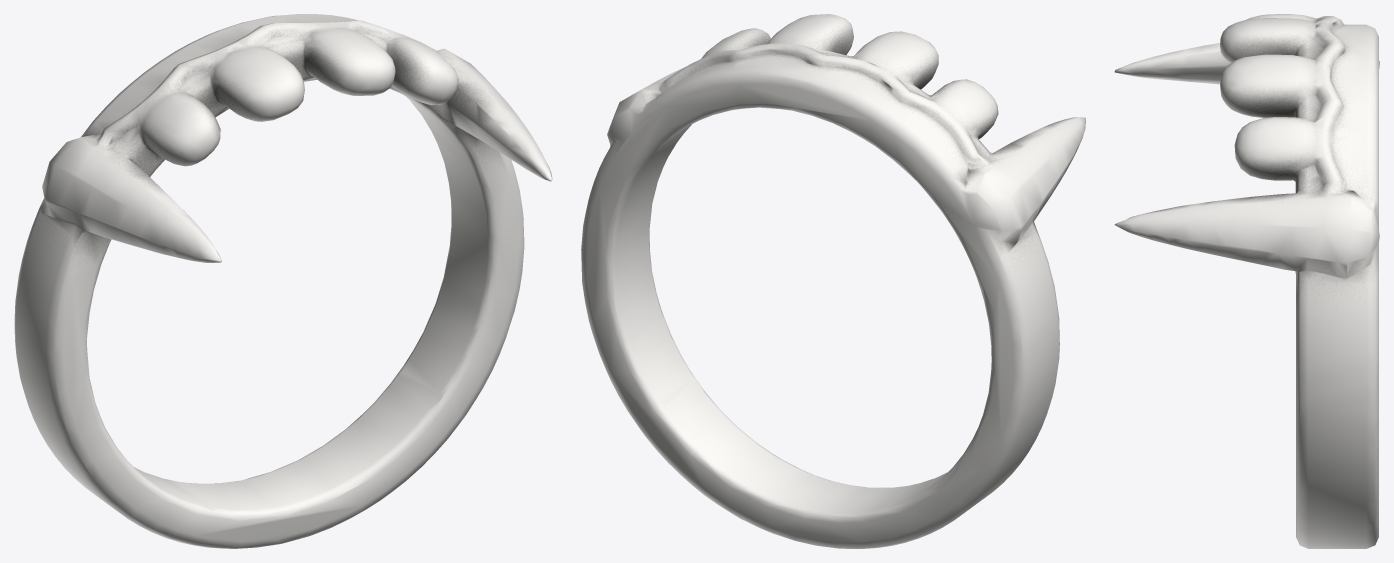
The model's file is Anillo_Colmillos.fbx.
The picture shows the model from 3 angles, left to right: view 1: azimuth 30°, elevation 25°; view 2: azimuth 150°, elevation 25°; view 3: azimuth 270°, elevation 25°; orthographic projection. The views are drawn at different scales.
Parts seen in each view (by area): view 1: Anillo_Colmillos; view 2: Anillo_Colmillos; view 3: Anillo_Colmillos.
Part boxes in pixels (x1,y1,x2,y2): Anillo_Colmillos: (14, 14, 552, 548); Anillo_Colmillos: (581, 14, 1085, 548); Anillo_Colmillos: (1114, 14, 1379, 548).
Size of the model in its own units: 0.0214 by 0.0218 by 0.0108.
1 material, 1 textured.
